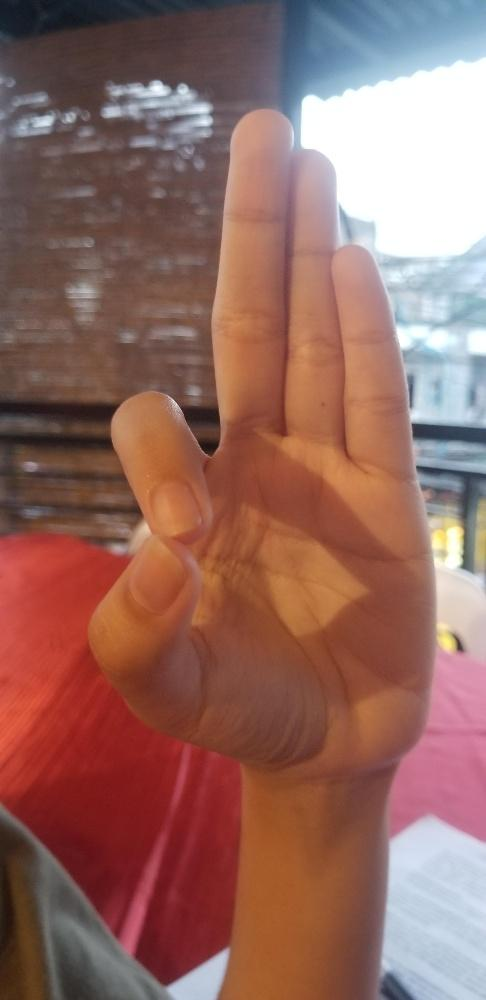f: (85, 106, 435, 753)
